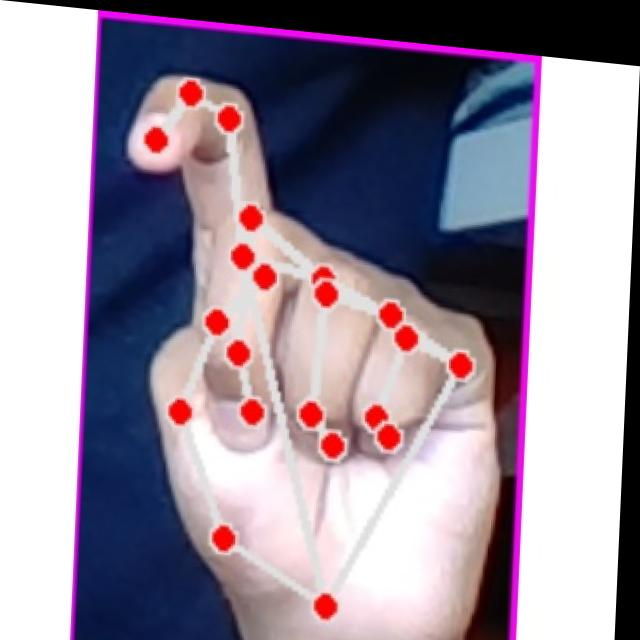Z: (101, 60, 514, 640)
